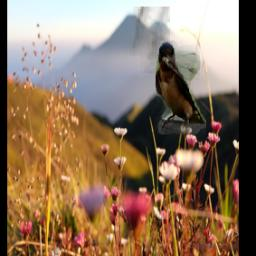Swallow: (156, 40, 206, 135)
Woodpecker: (127, 8, 170, 190)
